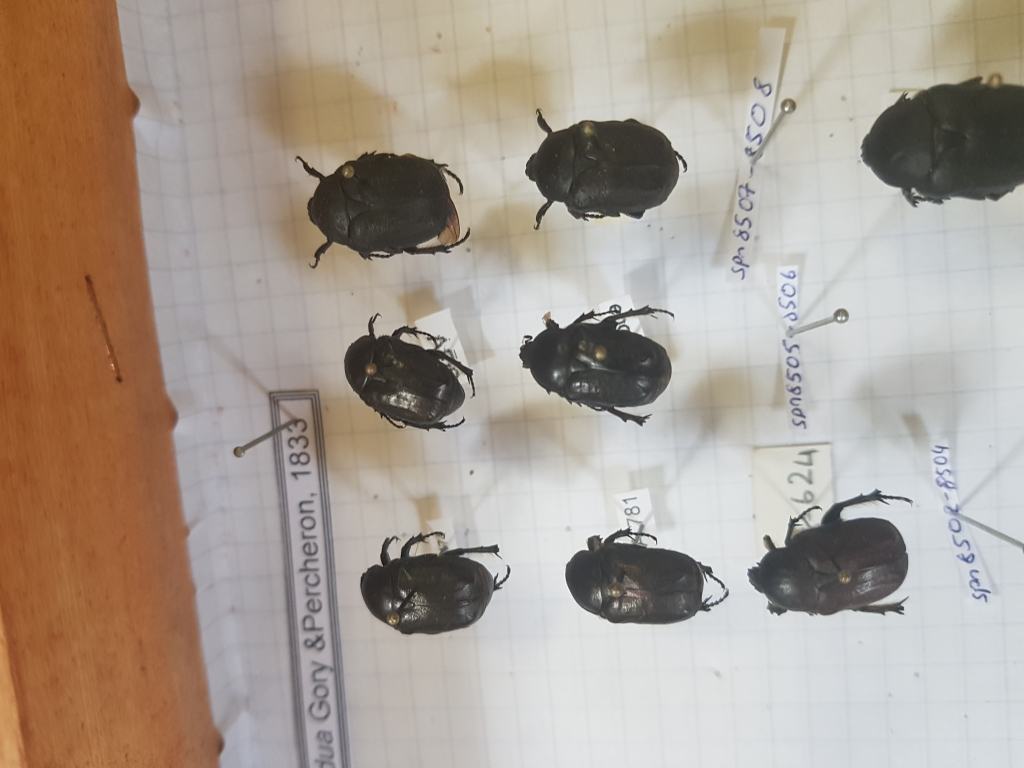Protaetia_vidua: (746, 476, 943, 626), (353, 504, 530, 654), (512, 287, 699, 412), (563, 506, 734, 630)
